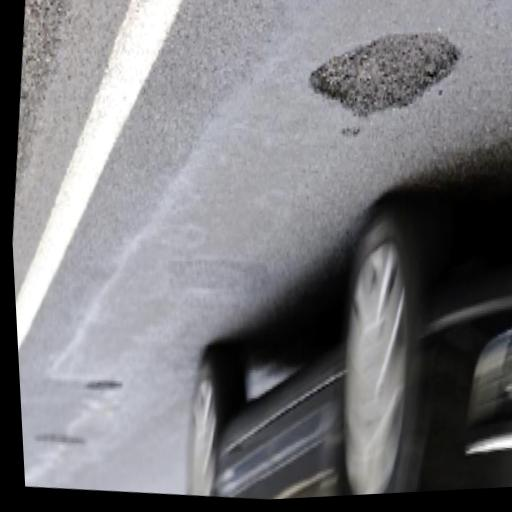pothole: (301, 14, 469, 130)
